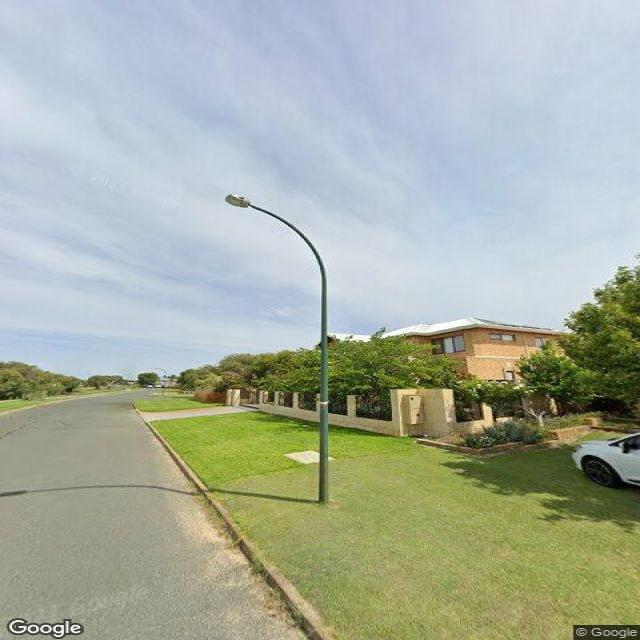steel-pole: (319, 274, 328, 504)
streetlight: (223, 194, 327, 279)
